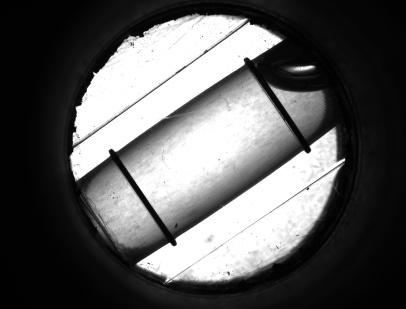line: (115, 168, 168, 224), (263, 98, 307, 130)
